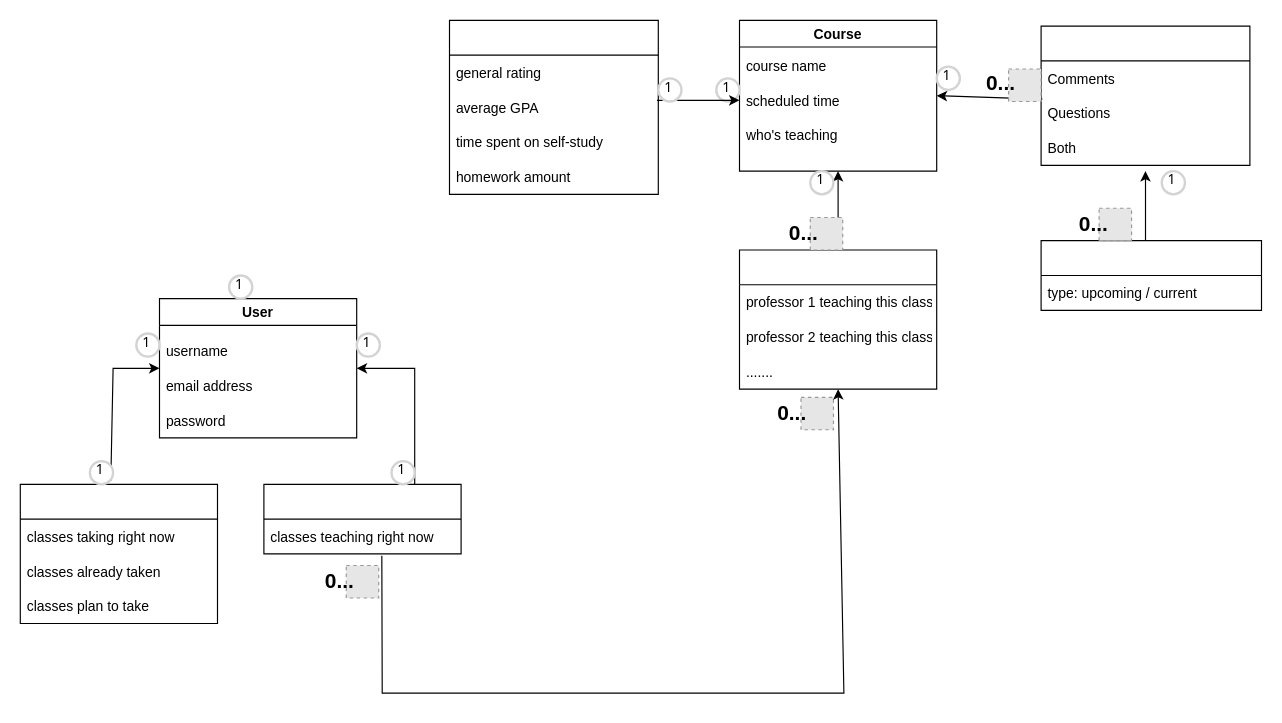
The diagram is 1282 pixels wide and 723 high, and some of its shapes have lost their labels. Grey dashed boxes stand in for pictures. The box of each missing label's shape, as (x1, y1, x2, y2) in pixels:
Evaluation: (448, 19, 658, 194)
Post: (1040, 25, 1250, 165)
Professor: (263, 483, 461, 554)
Professors: (738, 249, 937, 389)
Reply: (1040, 240, 1262, 310)
Student: (19, 483, 217, 624)
